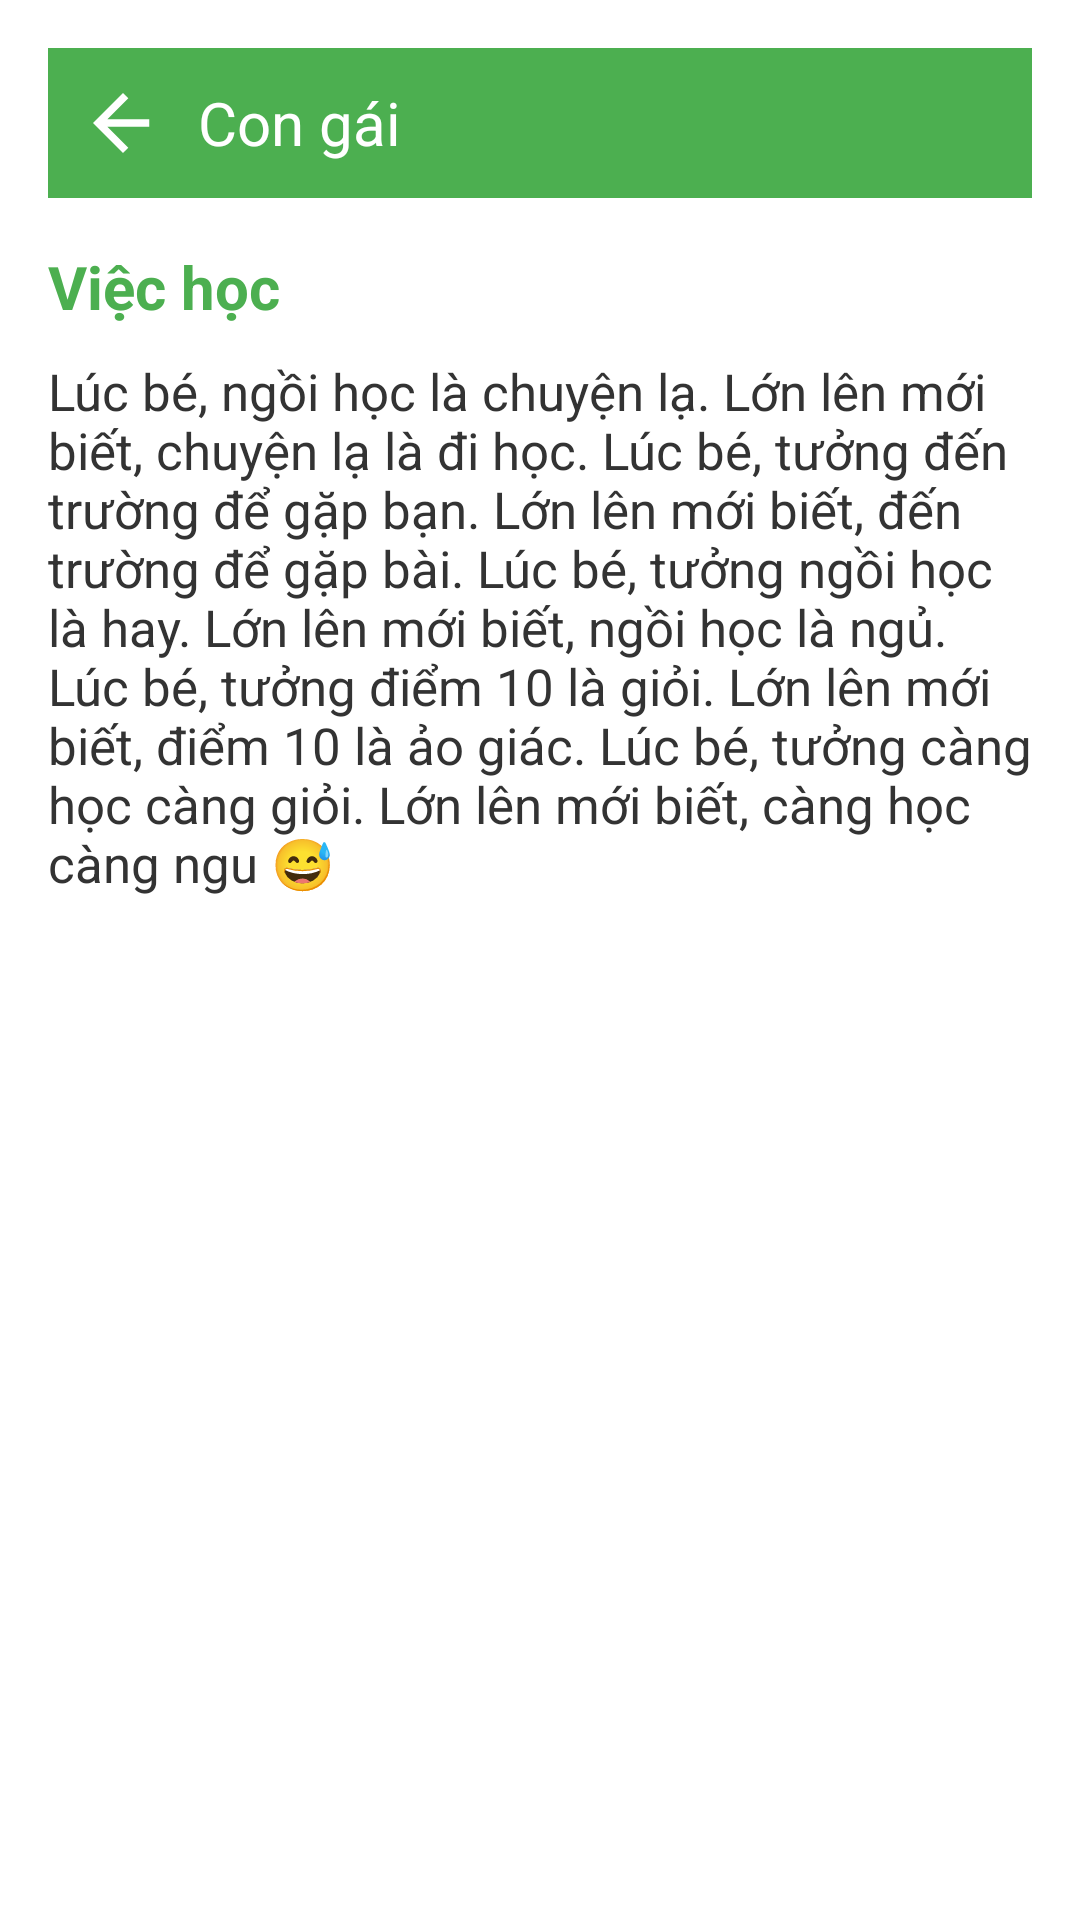

Screen size 1080px×1920px. Icon name, then its box in pixels as (x1, y1, x2, y2):
Quay lại: (93, 93, 150, 153)
